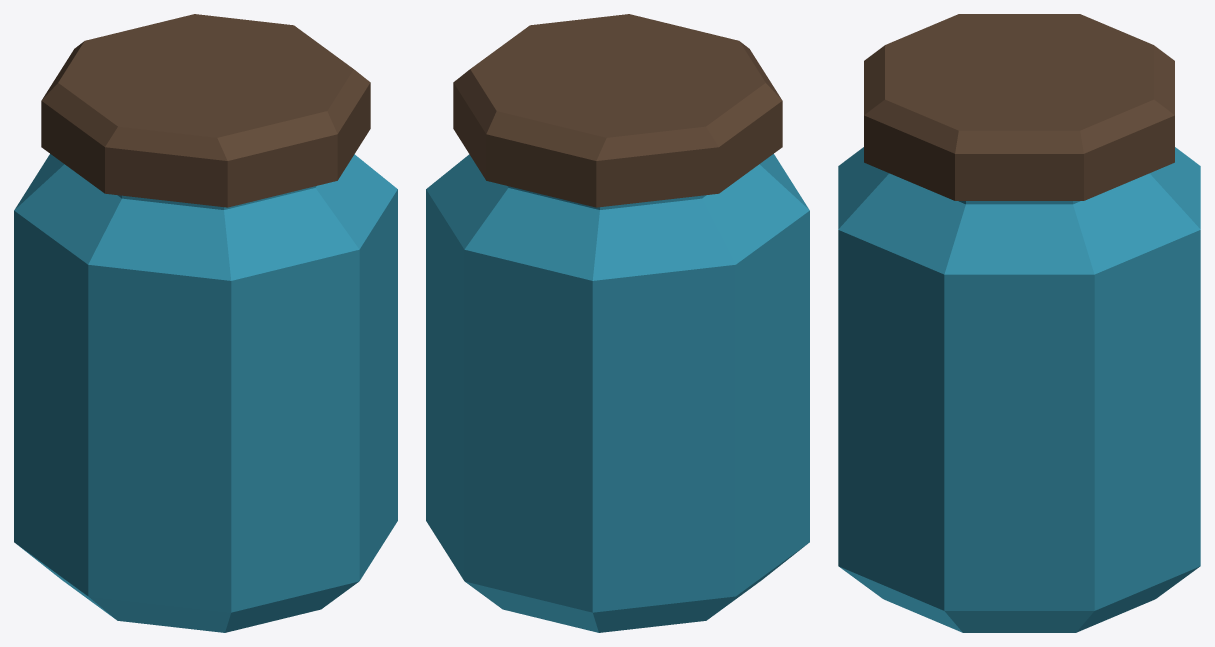
The model's file is SM_Jar.gltf.
3 views of the same model, side by side, from view 1: azimuth 30°, elevation 25°; view 2: azimuth 150°, elevation 25°; view 3: azimuth 270°, elevation 25° (orthographic).
Visible parts, largest first — view 1: SM_Jar, SM_Jar_Lid; view 2: SM_Jar, SM_Jar_Lid; view 3: SM_Jar, SM_Jar_Lid.
Part boxes in pixels (<box>): SM_Jar: <box>14,154,397,632</box>; SM_Jar_Lid: <box>41,14,370,207</box>; SM_Jar: <box>426,154,809,632</box>; SM_Jar_Lid: <box>453,14,782,207</box>; SM_Jar: <box>838,147,1200,632</box>; SM_Jar_Lid: <box>864,14,1174,200</box>.
Bounding box in the file's own units: 0.1661 × 0.2543 × 0.1661.
Materials: 3 (2 with a texture image).
